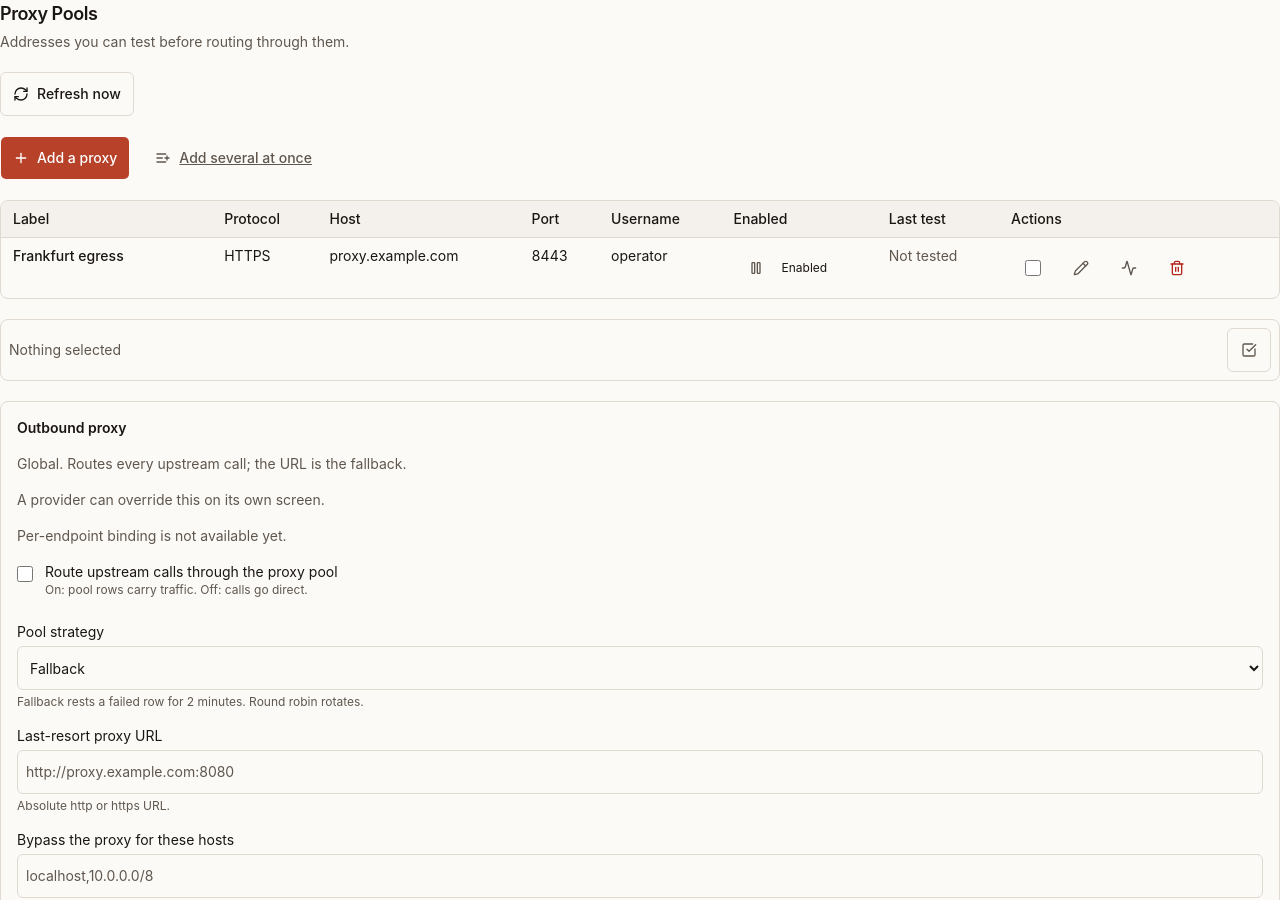
it: editing a proxy › keeps the stored password when the field is left empty
The image size is (1280, 900).
Check: the table is shown, box [1,201,1279,298]
Click the button named "Edit Frankfurt egress". click: click(1081, 268)
box: [1059,246,1103,290]
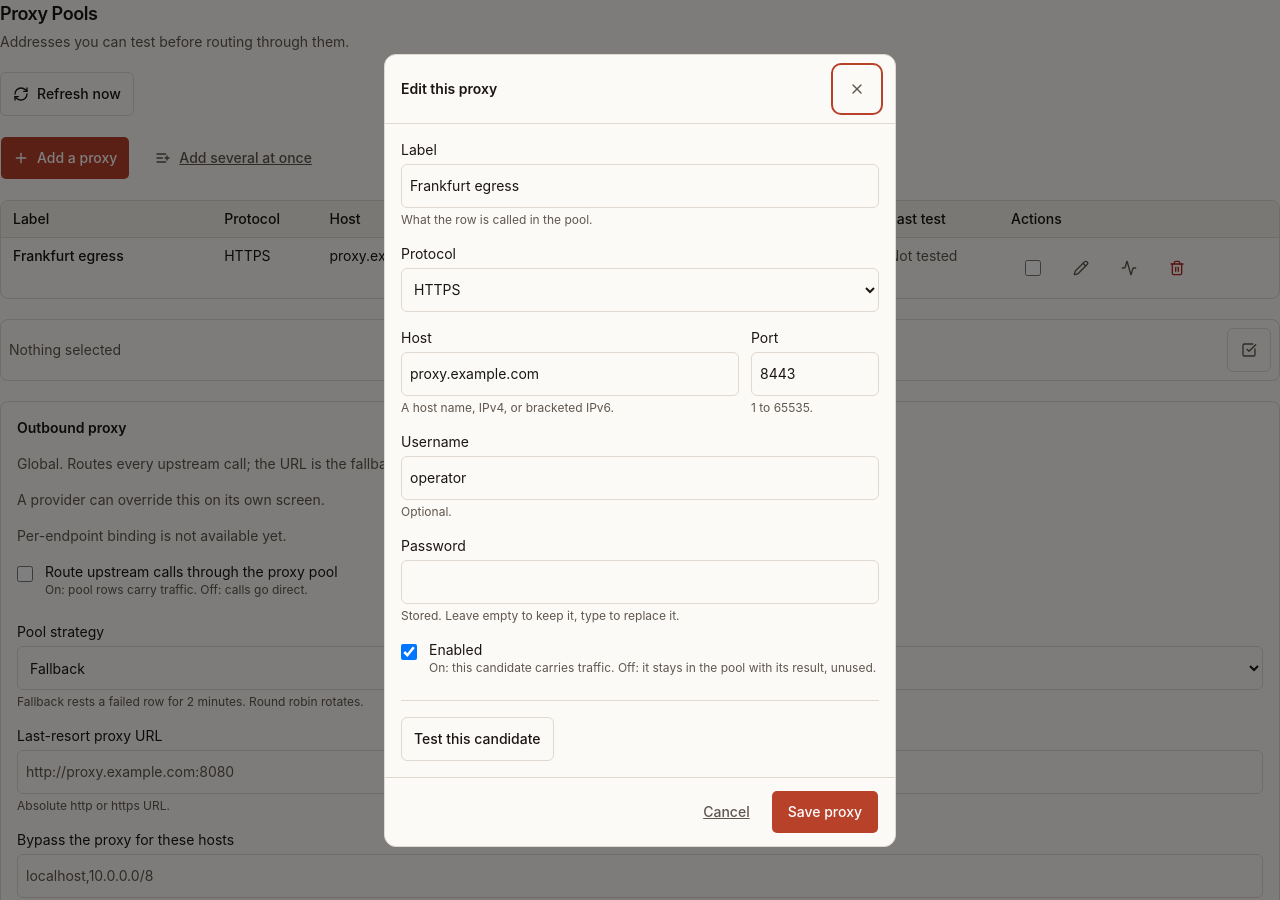
Check: the text "Stored. Leave empty to keep it, type to replace it." is shown, box [401,608,680,622]
Replace the text in the field labelled "Label" with "Frankfurt egress two". click: (640, 186)
box: [401,164,879,208]
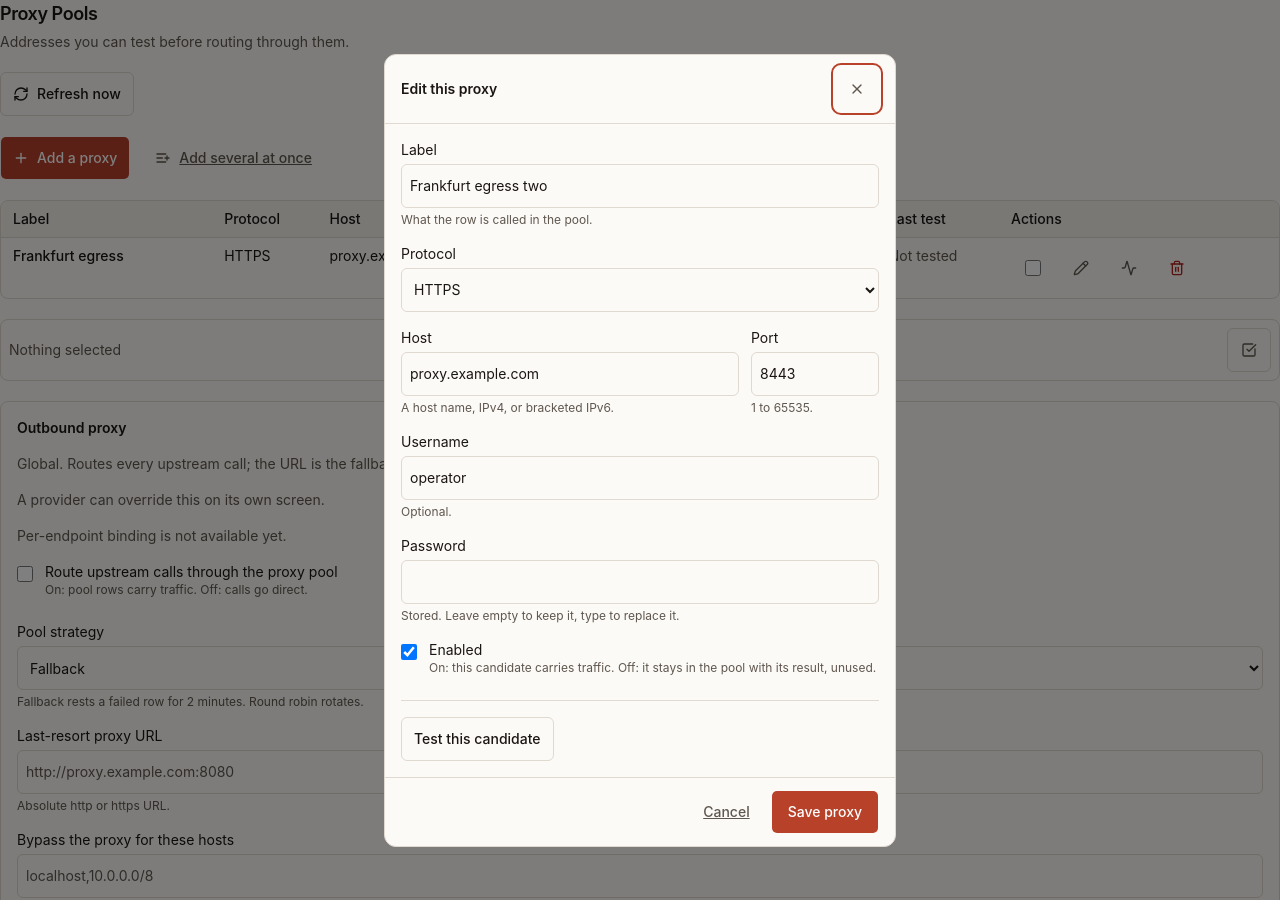
Click the button "Save proxy". click: click(825, 812)
box: [771,790,879,834]
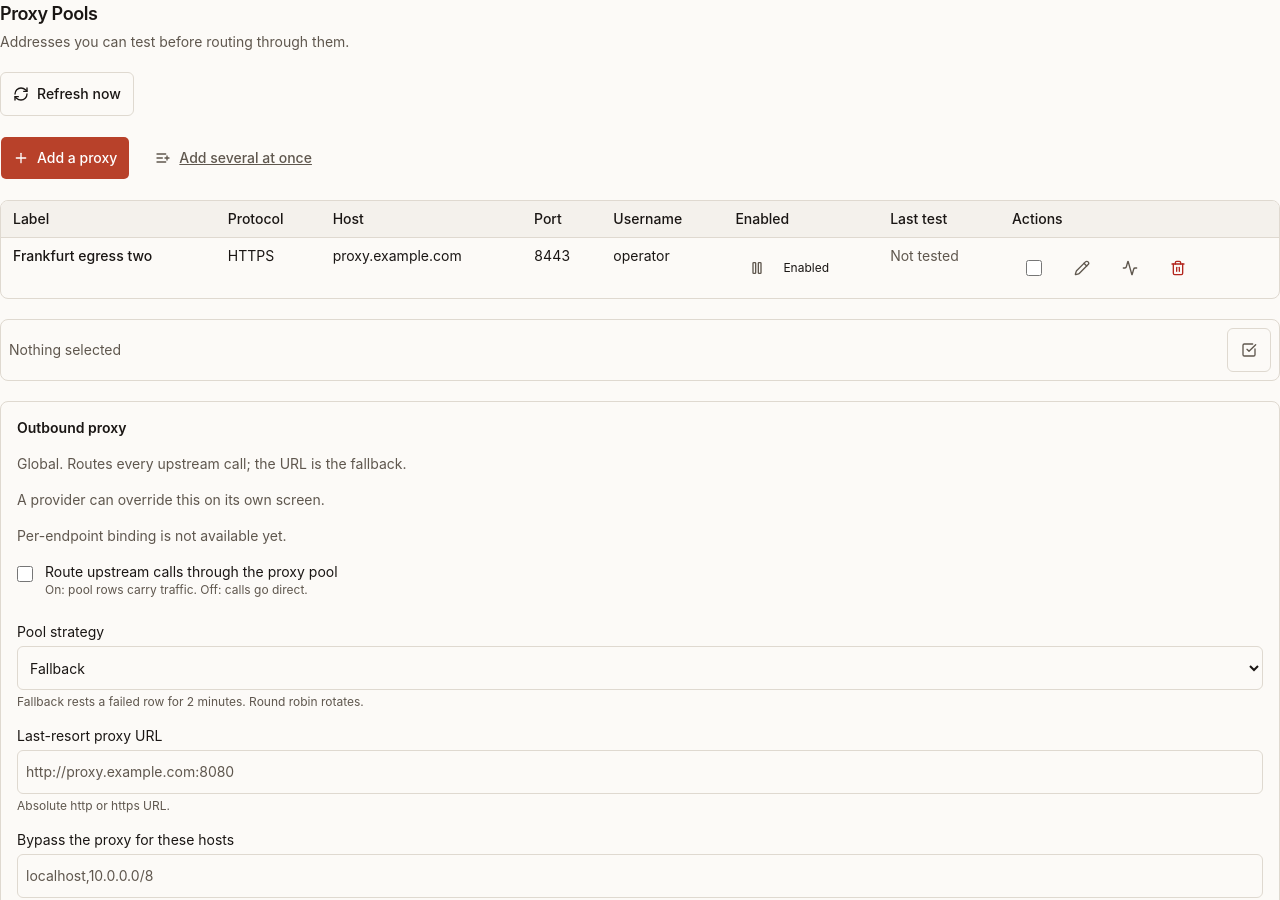
Check: the text "Frankfurt egress two" is shown, box [1,238,216,298]
Click the button named "Edit Frankfurt egress two". click: click(1082, 268)
box: [1060,246,1104,290]
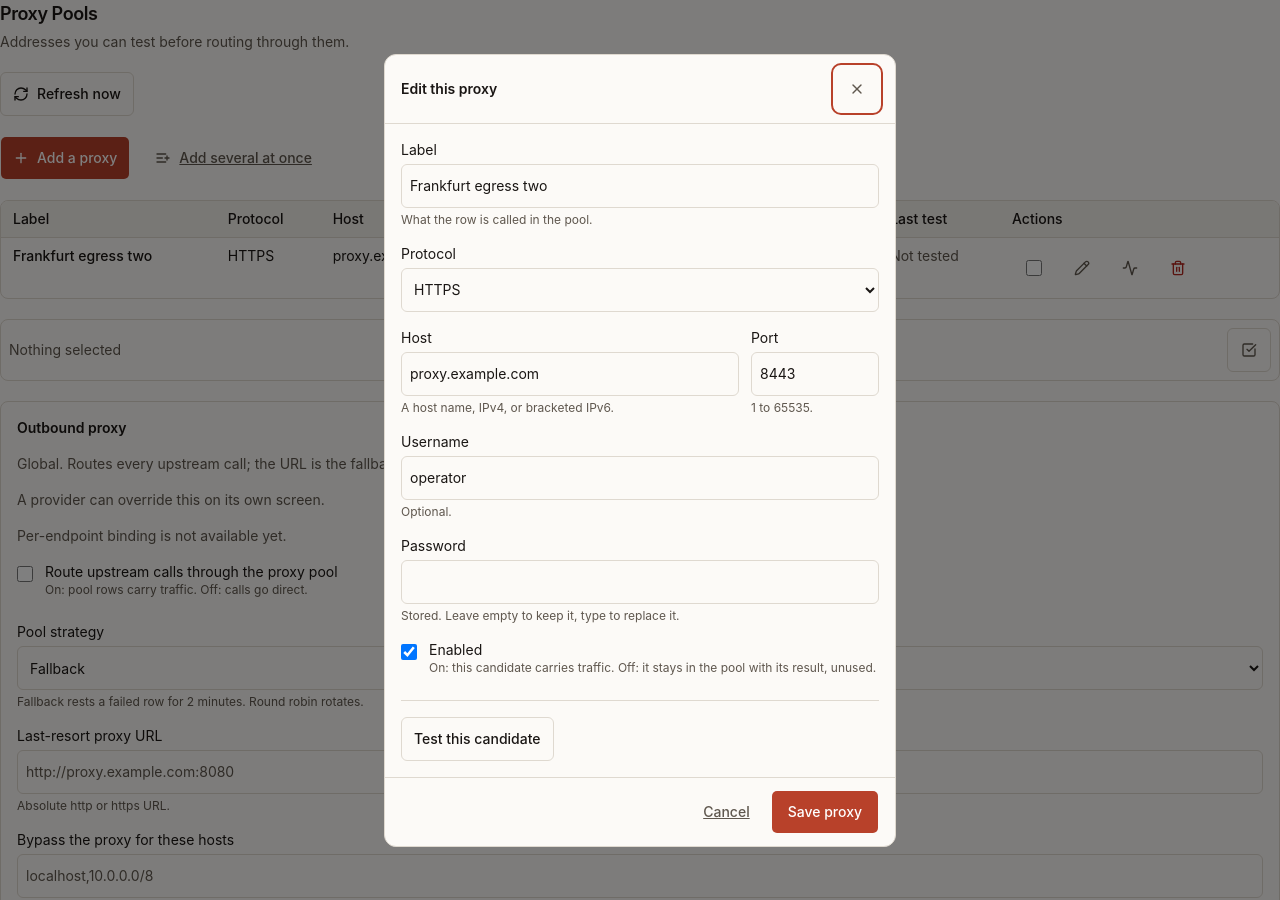
Check: the text "Stored. Leave empty to keep it, type to replace it." is shown, box [401,608,680,622]
